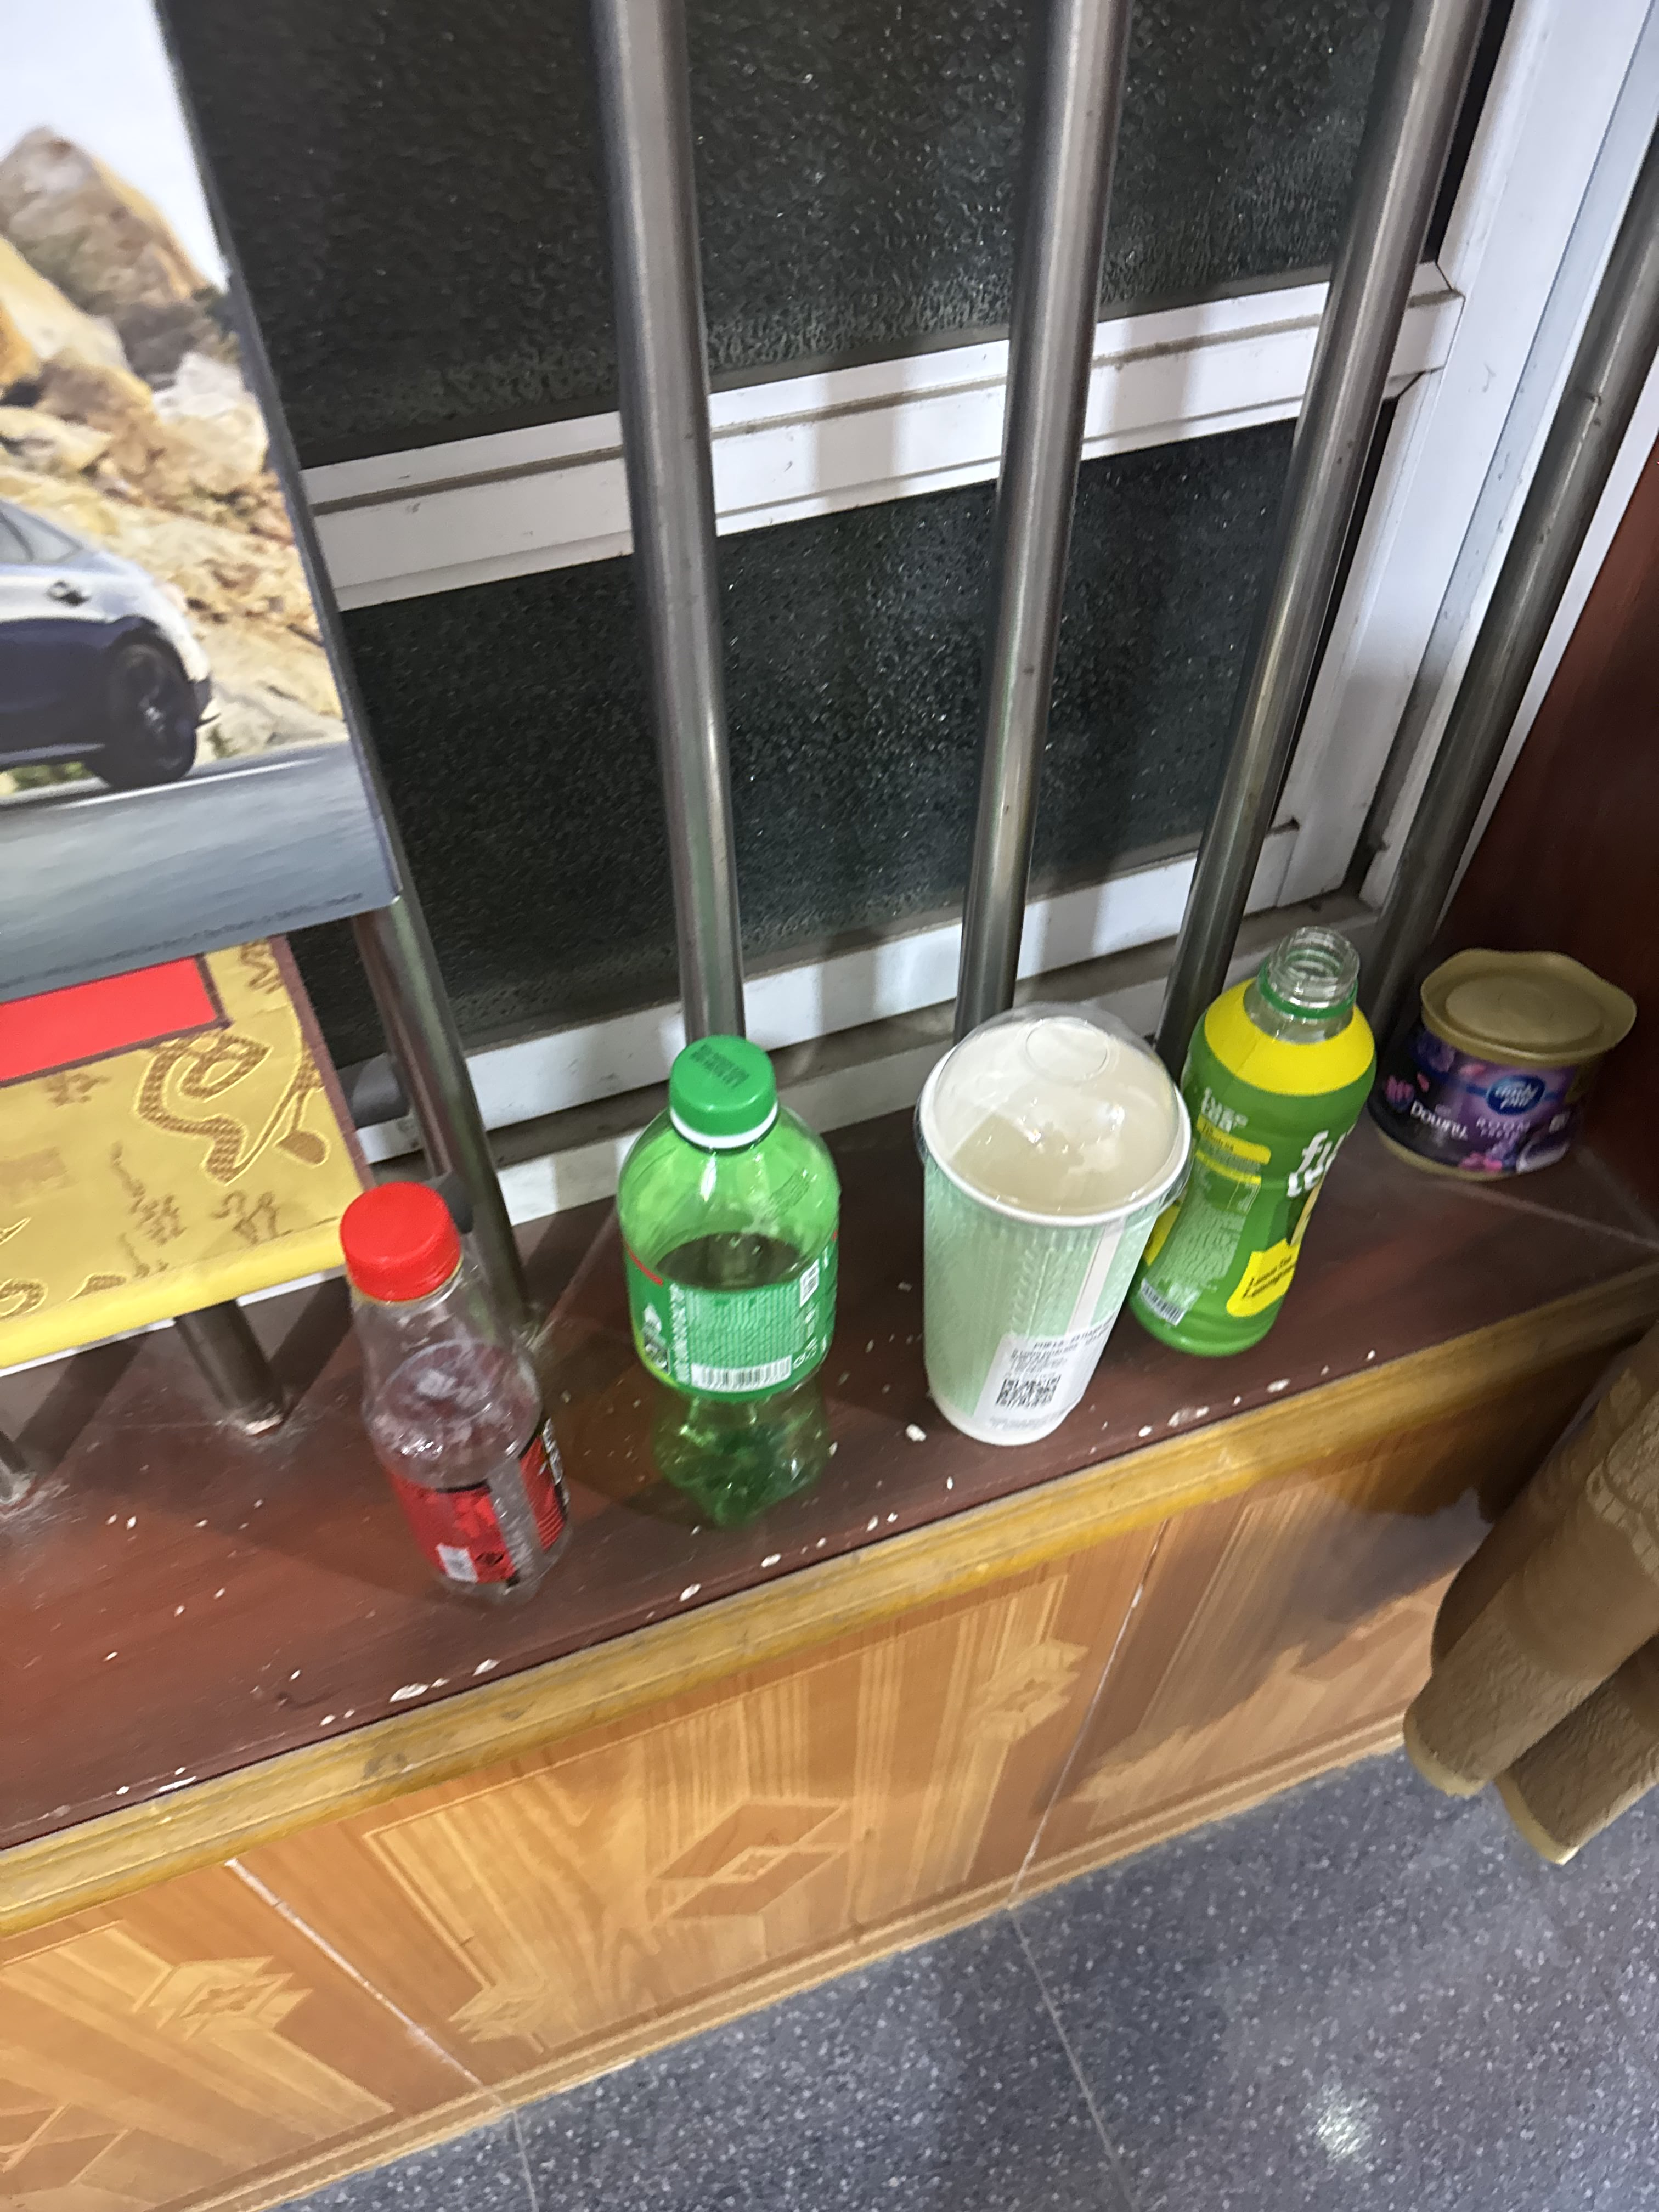2: (856, 954, 1206, 1498)
bottle: (598, 986, 861, 1568), (1115, 894, 1417, 1385), (310, 1123, 582, 1658)
